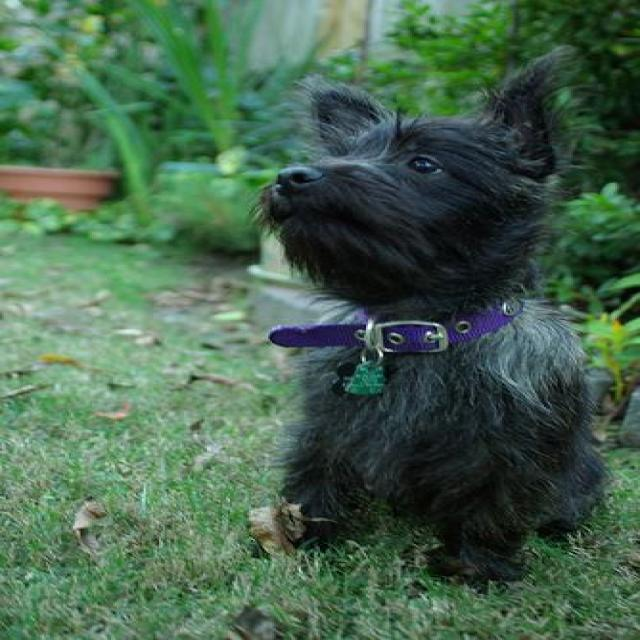relax: (201, 8, 640, 580)
